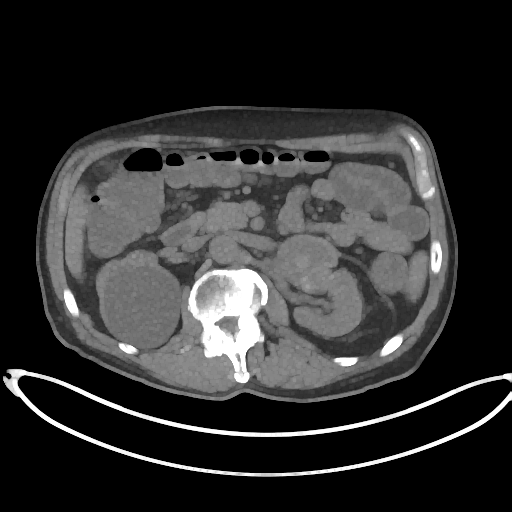Lesion: (271, 232, 343, 289)
